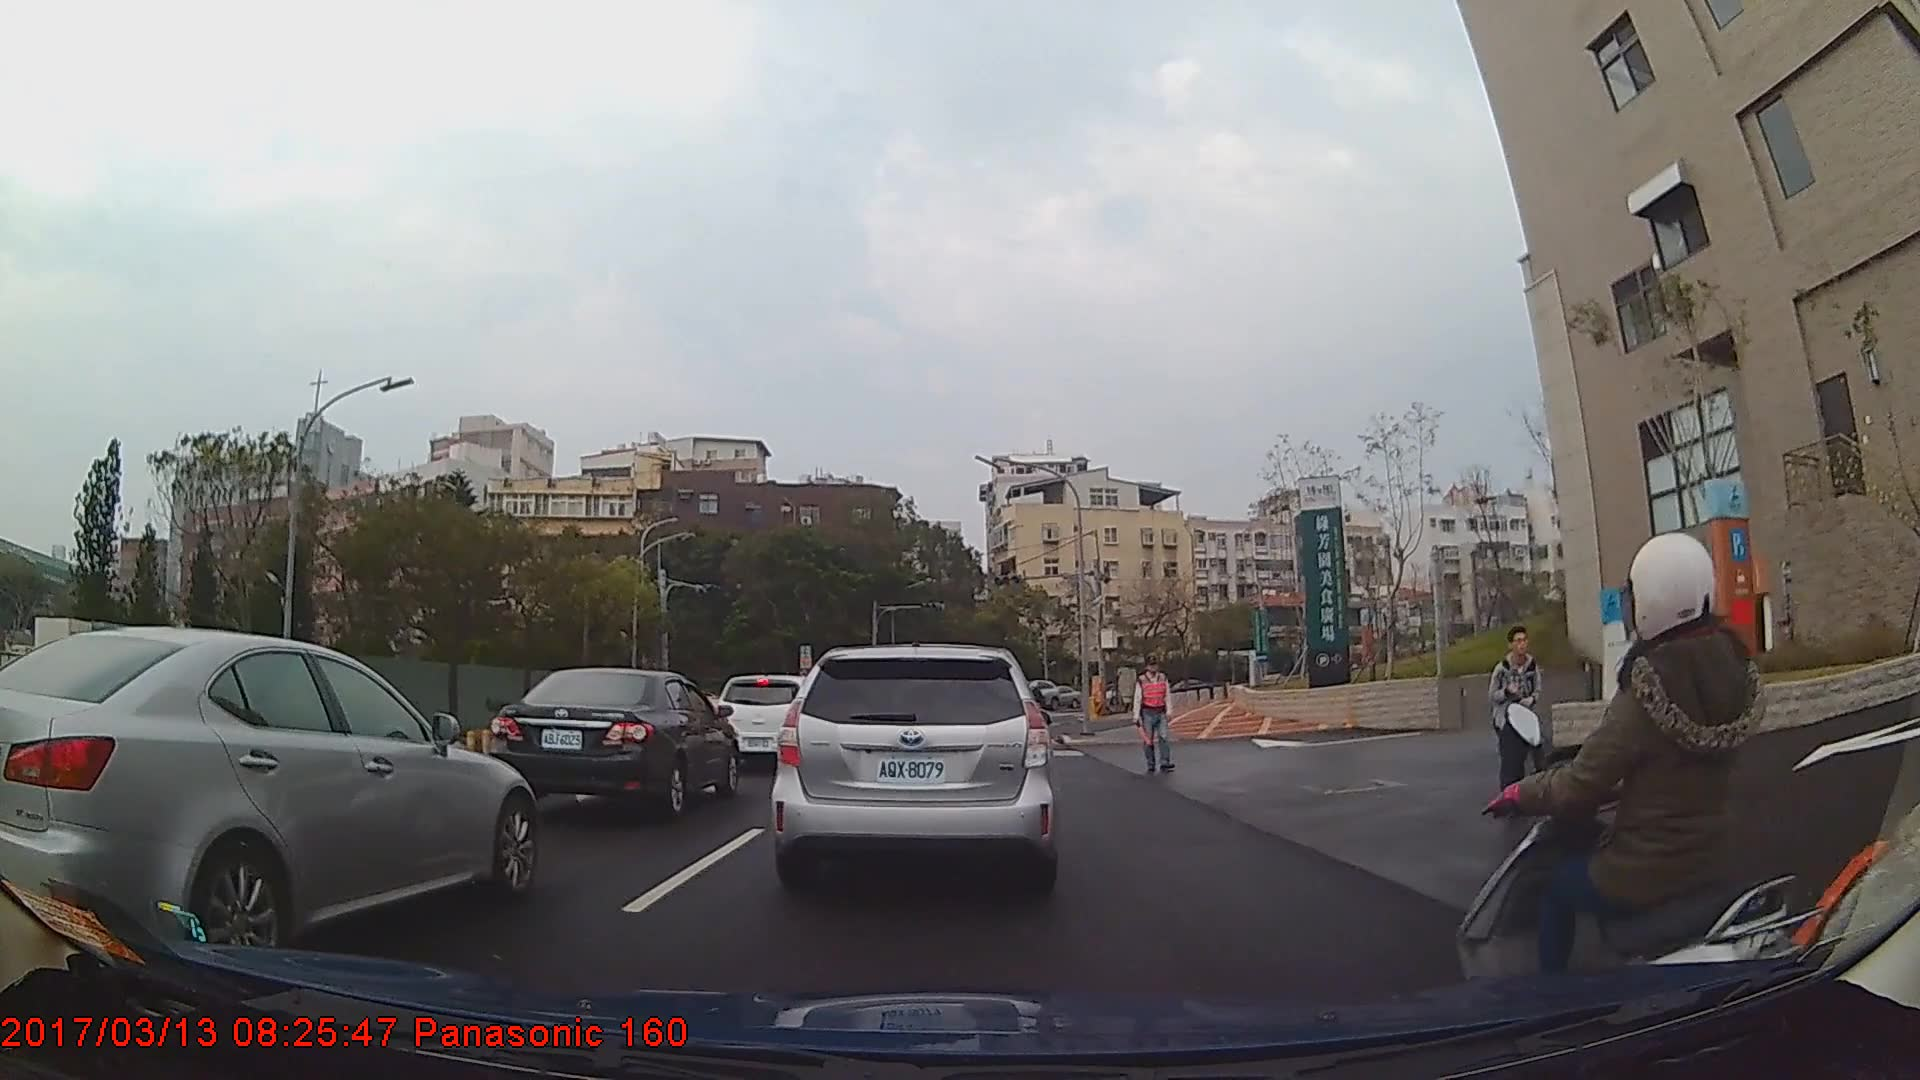pedestrian: (1487, 624, 1543, 816), (1136, 659, 1178, 778)
rider: (1460, 528, 1819, 1070)
vehicle: (0, 625, 536, 968), (769, 646, 1059, 900), (490, 669, 741, 822), (718, 676, 823, 766), (1042, 686, 1082, 715)
